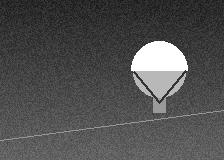helmet: (131, 41, 187, 102)
